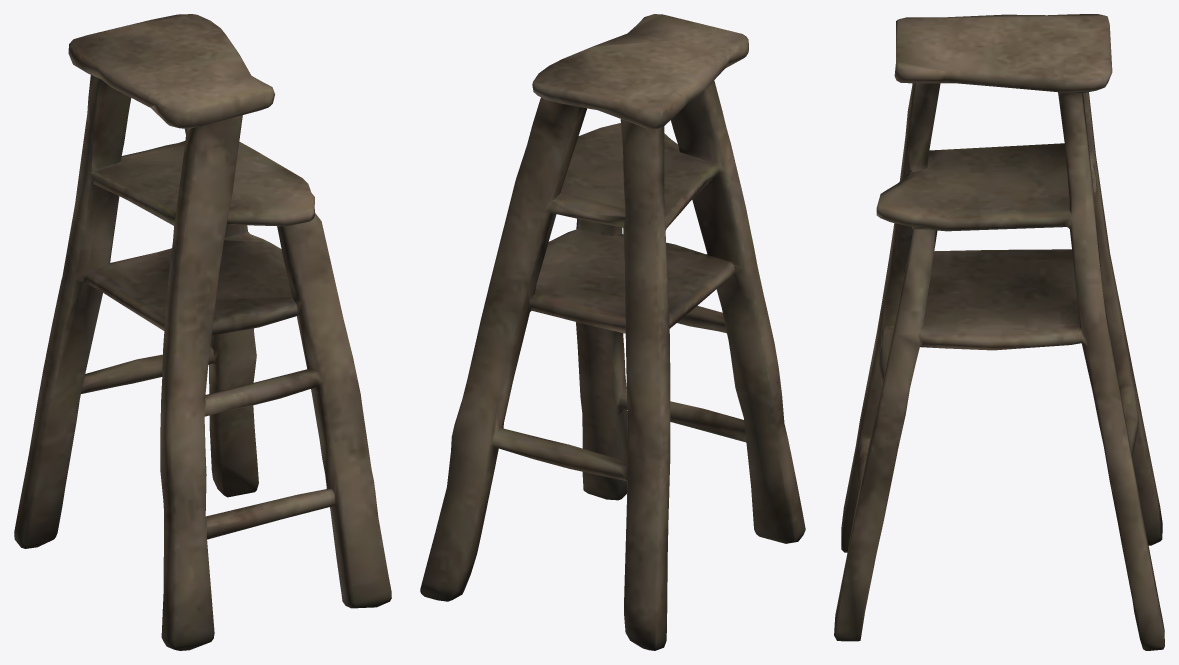
File: weathered-wood-ladder-v002.glb
The picture shows the model from 3 angles, left to right: view 1: azimuth 30°, elevation 25°; view 2: azimuth 150°, elevation 25°; view 3: azimuth 270°, elevation 25°; orthographic projection. The views are drawn at different scales.
Parts seen in each view (by area): view 1: weathered-wood-ladder; view 2: weathered-wood-ladder; view 3: weathered-wood-ladder.
Part boxes in pixels (bbox=[...]): weathered-wood-ladder: bbox=[14, 14, 391, 650]; weathered-wood-ladder: bbox=[420, 14, 805, 650]; weathered-wood-ladder: bbox=[834, 14, 1164, 650].
Size of the model in its own units: 0.8824 by 1.85 by 1.03.
Materials: 1 (1 with a texture image).
